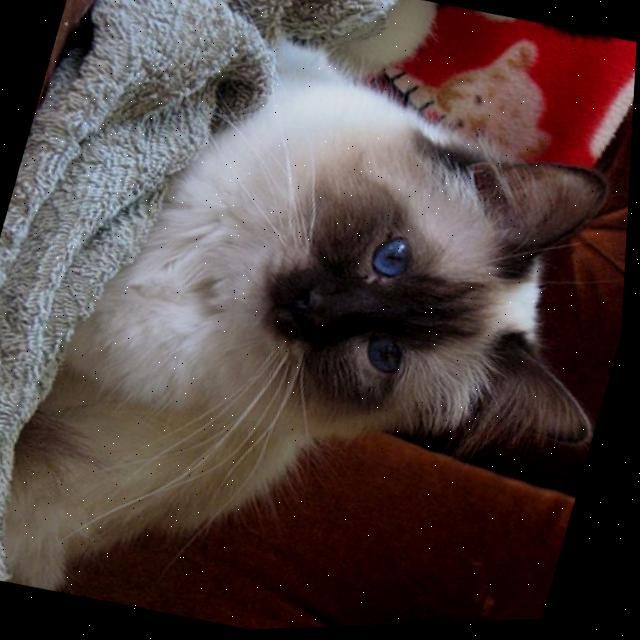Birman: (0, 7, 639, 640)
